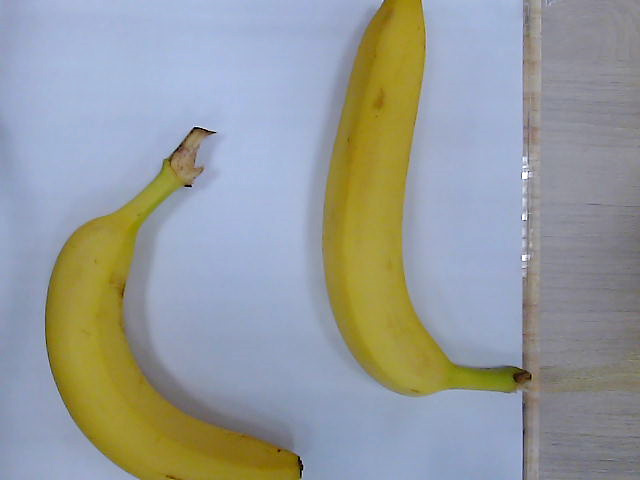fresh_banana: (45, 127, 302, 480), (324, 1, 530, 396)
